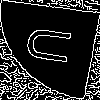U: (24, 24, 84, 68)
